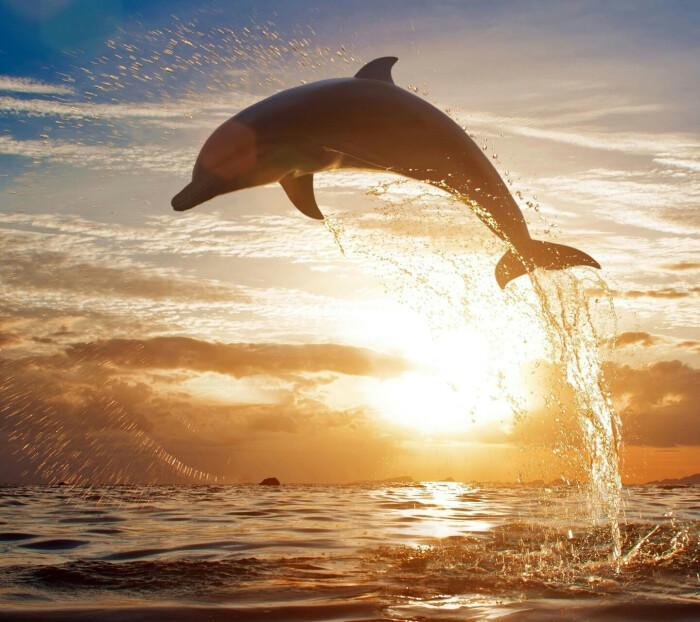fish: (169, 56, 604, 288)
